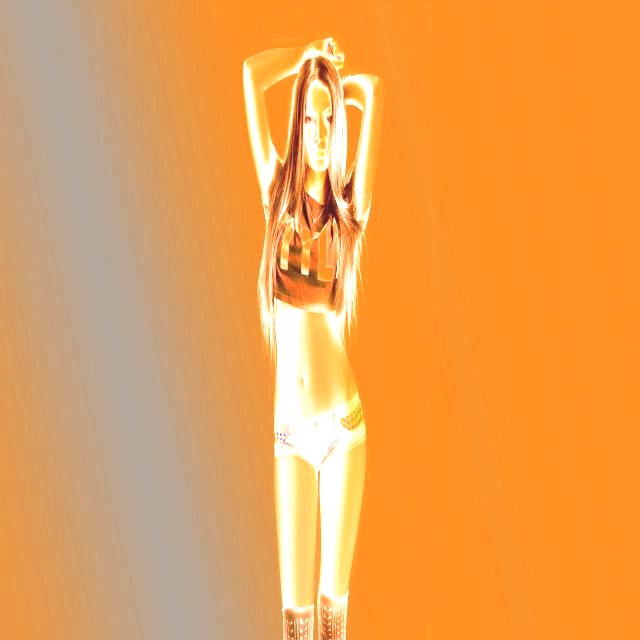Crop_Top: (269, 145, 358, 419)
Shorts: (269, 391, 373, 508)
